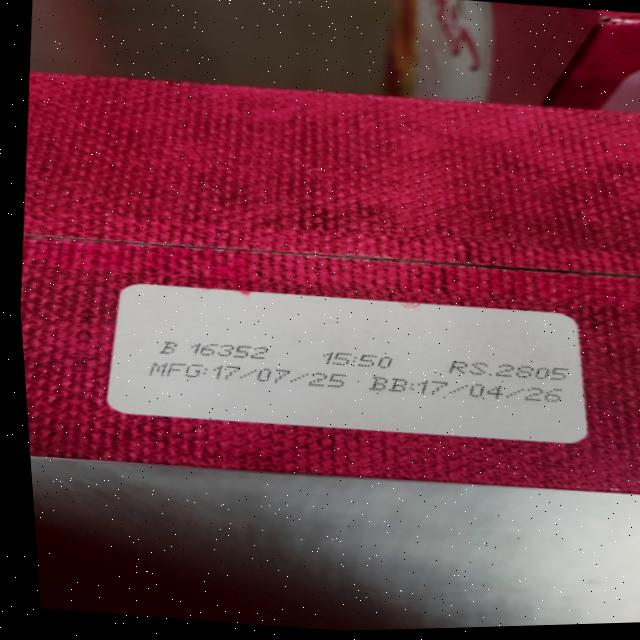BB: (370, 369, 566, 411)
Batch: (157, 337, 275, 365)
MFG: (149, 354, 343, 396)
RS: (446, 355, 575, 386)
TimeStamp: (320, 348, 397, 371)
